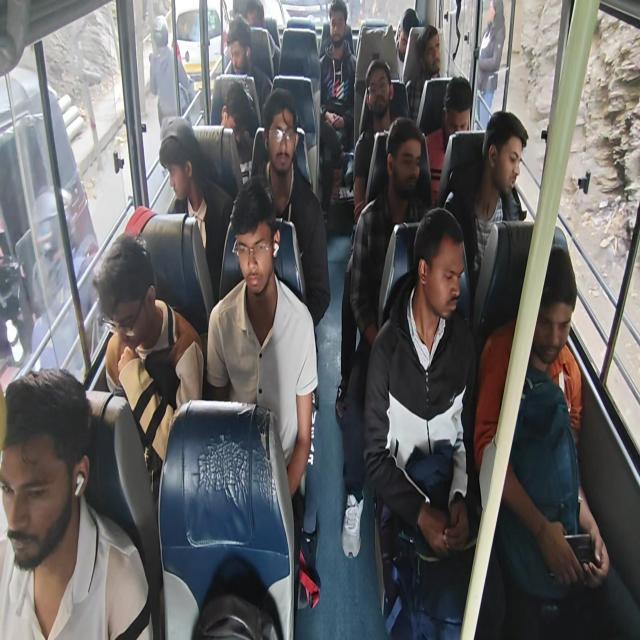person: (7, 384, 78, 568), (510, 271, 576, 369), (99, 237, 152, 351), (418, 230, 461, 326), (236, 215, 276, 295), (485, 124, 525, 197), (158, 130, 199, 199), (387, 127, 420, 196), (361, 65, 396, 123), (268, 105, 296, 172), (212, 95, 248, 146), (445, 80, 468, 156), (222, 24, 250, 76), (399, 11, 420, 62), (419, 30, 443, 74), (327, 6, 347, 49), (240, 0, 266, 31)
